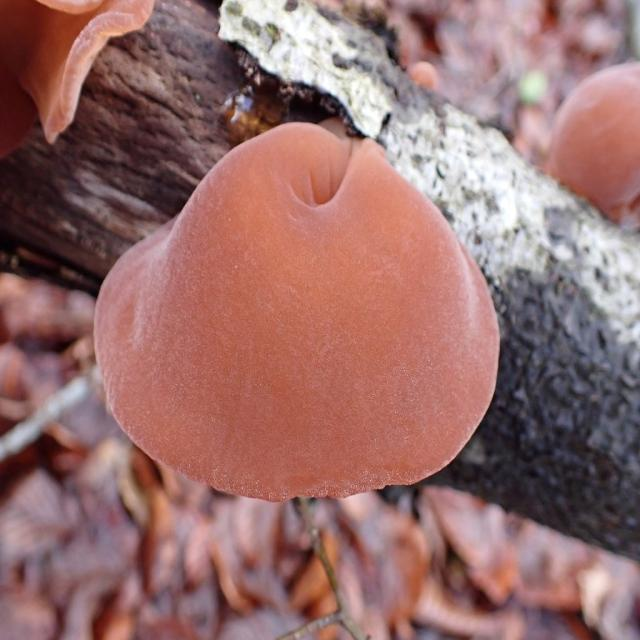Matang: (87, 90, 502, 528)
